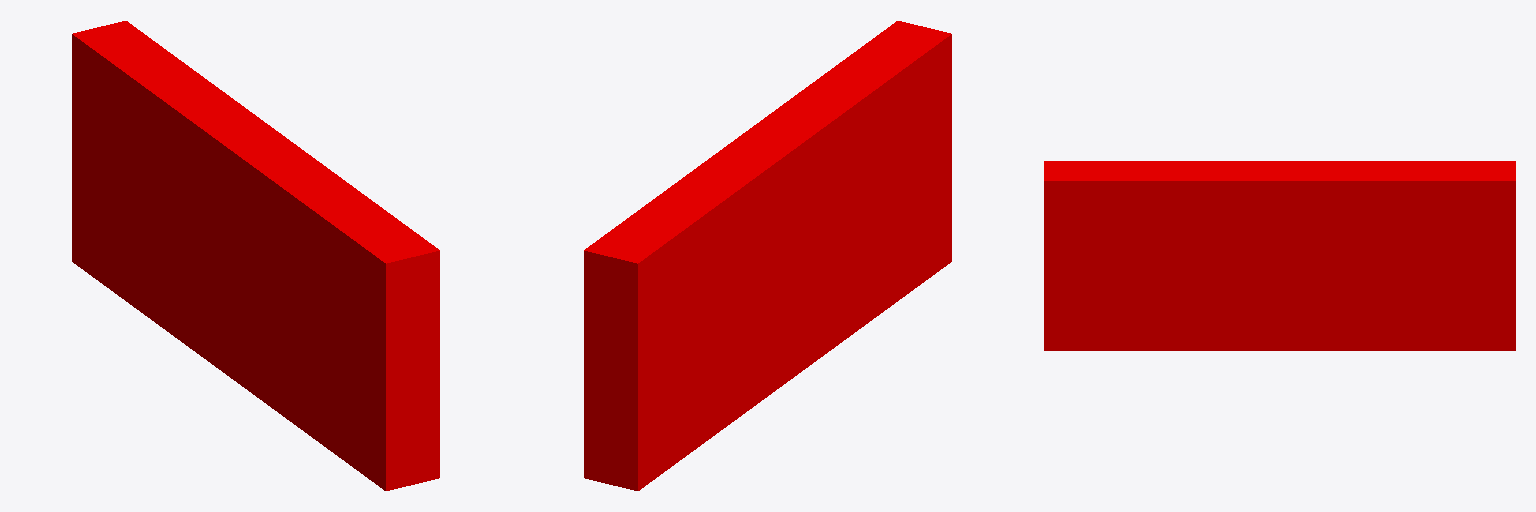
URDF robot description (ball):
<?xml version="0.0" ?>
<robot name="ball">
    <link name="wall">
        <contact>
            <lateral_friction value="1"/>
        </contact>

        <inertial>
            <origin xyz="0 0 0" rpy="0 0 0"/>
            <mass value="0.0"/>
            <inertia ixx="0"  ixy="0"  ixz="0" iyy="0" iyz="0" izz="0" />
        </inertial>

        <visual>
            <origin xyz="0 0 0" rpy="0 0 0" />
            <geometry>
                <box size="0.1 1.0 0.4" />
            </geometry>
            <material name="Red">
                <color rgba="1.0 0.0 0.0 1.0"/>
            </material>
        </visual>

        <collision>
            <origin xyz="0 0 0" rpy="0 0 0"/>
            <geometry>
                <box size="0.1 1.0 0.4" />
            </geometry>
        </collision>
    </link>
</robot>

--- What the picture shows (computed from the rendered views, not written in the file) ---
3 views of the same robot in one strip: view 1: azimuth 30°, elevation 25°; view 2: azimuth 150°, elevation 25°; view 3: azimuth 270°, elevation 25° (orthographic).
Model ball with 1 links and 0 joints (none), rooted at wall, posed all joints at 0.
Visible links, largest first — view 1: wall; view 2: wall; view 3: wall.
Link boxes in pixels (left/top/right/bottom): wall: left=72, top=21, right=439, bottom=490; wall: left=584, top=21, right=951, bottom=490; wall: left=1044, top=161, right=1515, bottom=350.
Bounding box of the posed robot: 0.1 × 1 × 0.4 m (x, y, z).
Geometry: primitives only (box / cylinder / sphere), no mesh files.